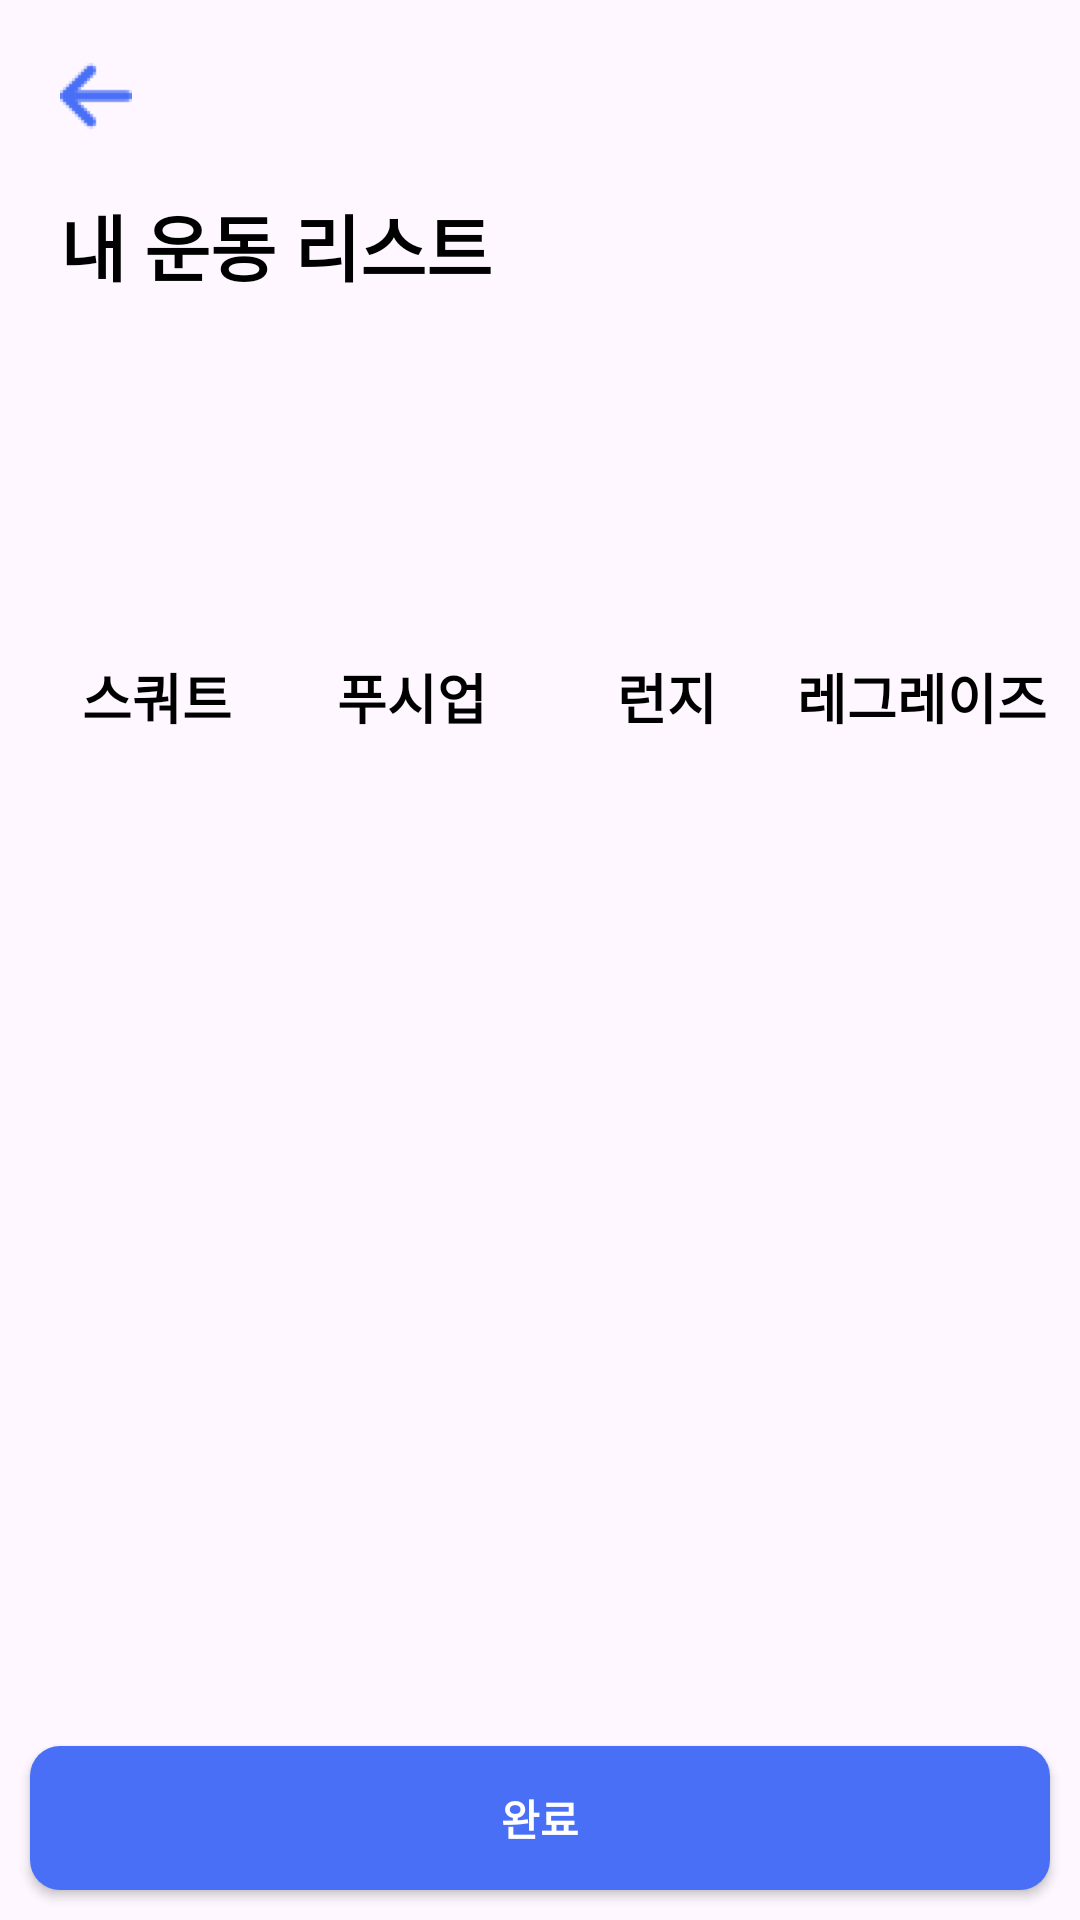

Icon click points for this 1080×1920 phone screenshot, format point (x, y):
back: point (96, 96)
